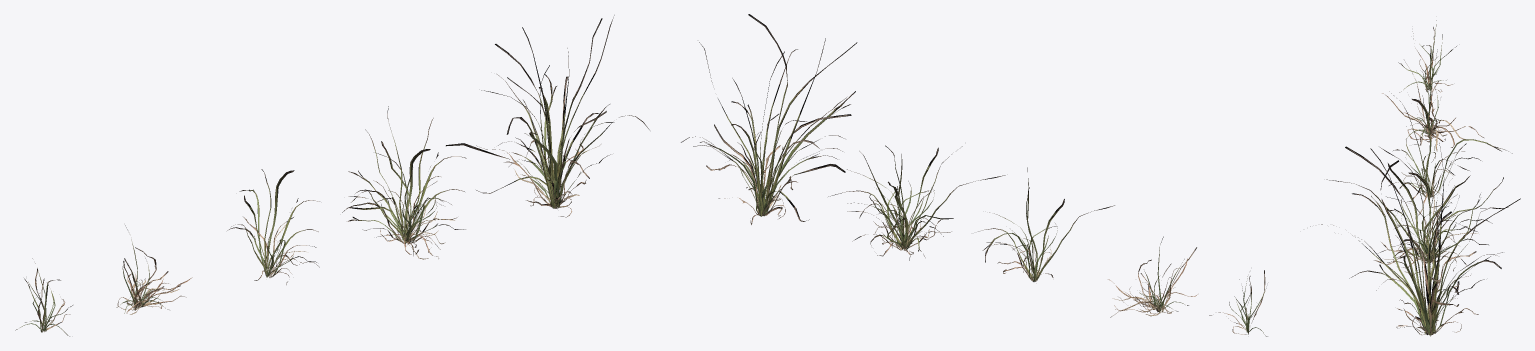
Rendered from ph_grass_medium_02.glb.
3 renders of one model, left to right at view 1: azimuth 30°, elevation 25°; view 2: azimuth 150°, elevation 25°; view 3: azimuth 270°, elevation 25°, orthographic. The views are drawn at different scales.
Size of the model in its own units: 1.31 by 0.4053 by 0.4326.
1 material, 1 textured.
